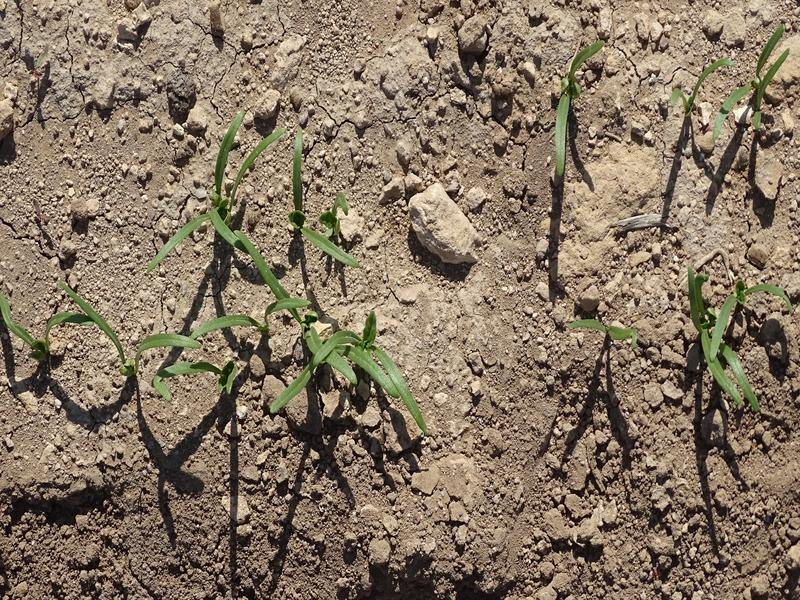Espinaca: (129, 300, 434, 430), (148, 115, 368, 275), (686, 273, 793, 406), (671, 28, 787, 134), (4, 284, 127, 367), (549, 37, 610, 171), (571, 318, 640, 344)
